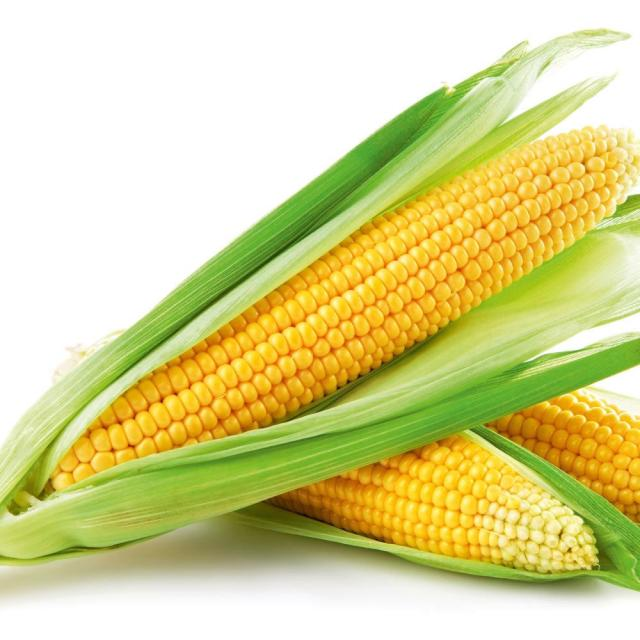corn: (19, 108, 640, 505)
